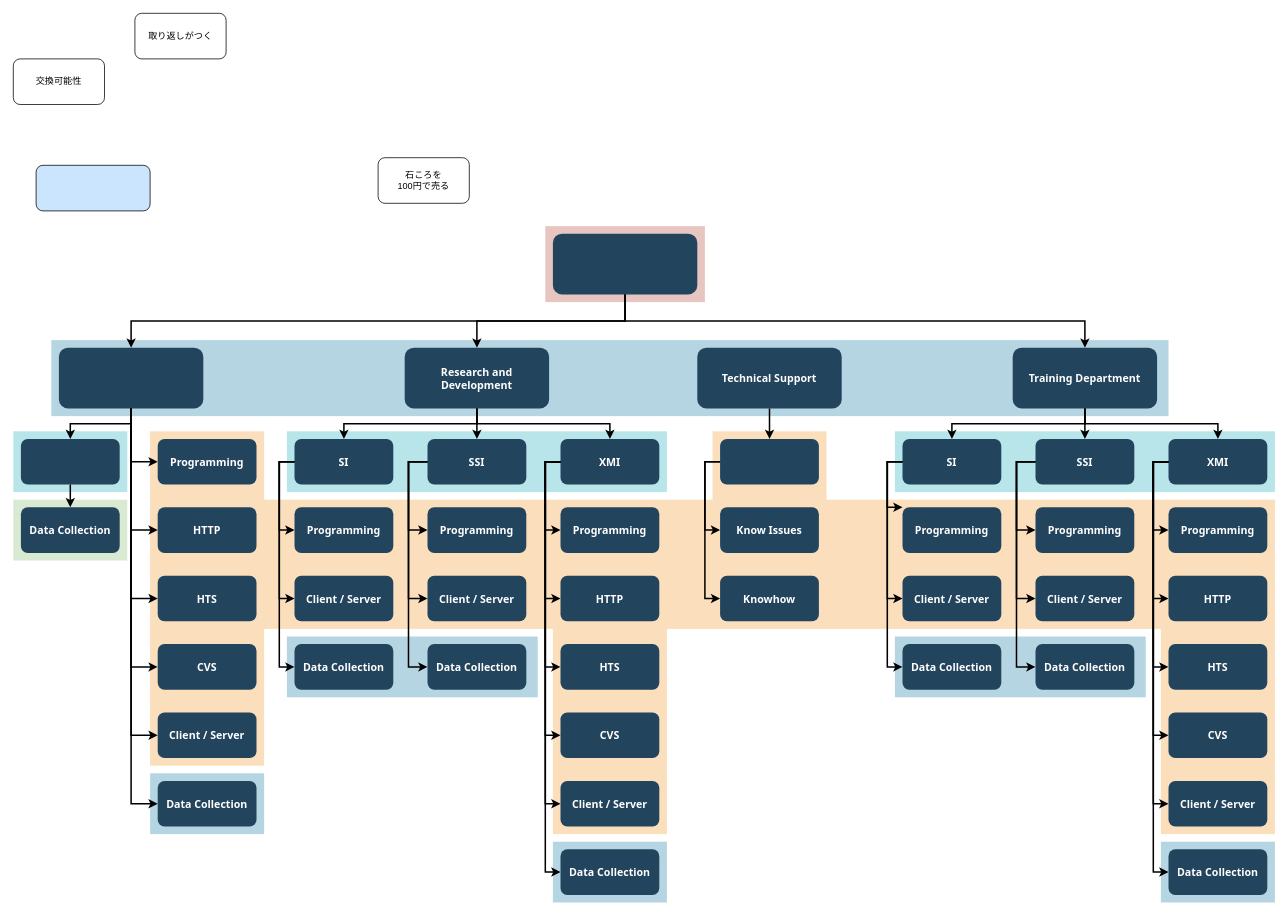
The diagram is 1288 pixels wide and 916 high, and some of its shapes have lost their labels. Here are the shapes that lost their labels. From the top down, the box of each, then its label:
(35, 165, 150, 211): 100円の財布と 10000円の財布 どちらが価値がある？
(553, 233, 697, 294): Head of Development
(59, 347, 203, 408): Human Resources
(21, 439, 119, 484): Regular Report
(720, 439, 819, 484): FAQ
